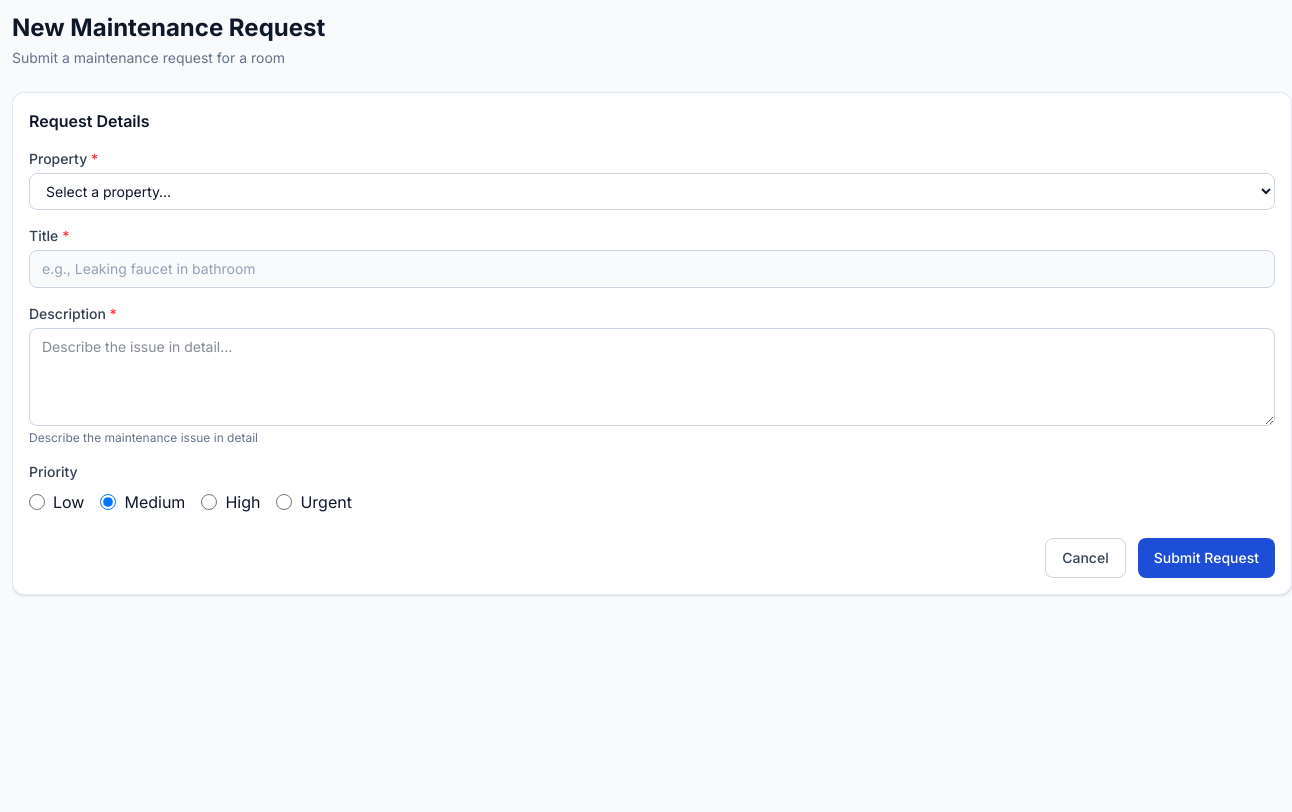
it: MaintenanceFormPage › property selection › shows room selection after property is selected
Select "Sunset Tower" in the dropdown labelled "Property *" at (652,192), box [29, 173, 1275, 210]
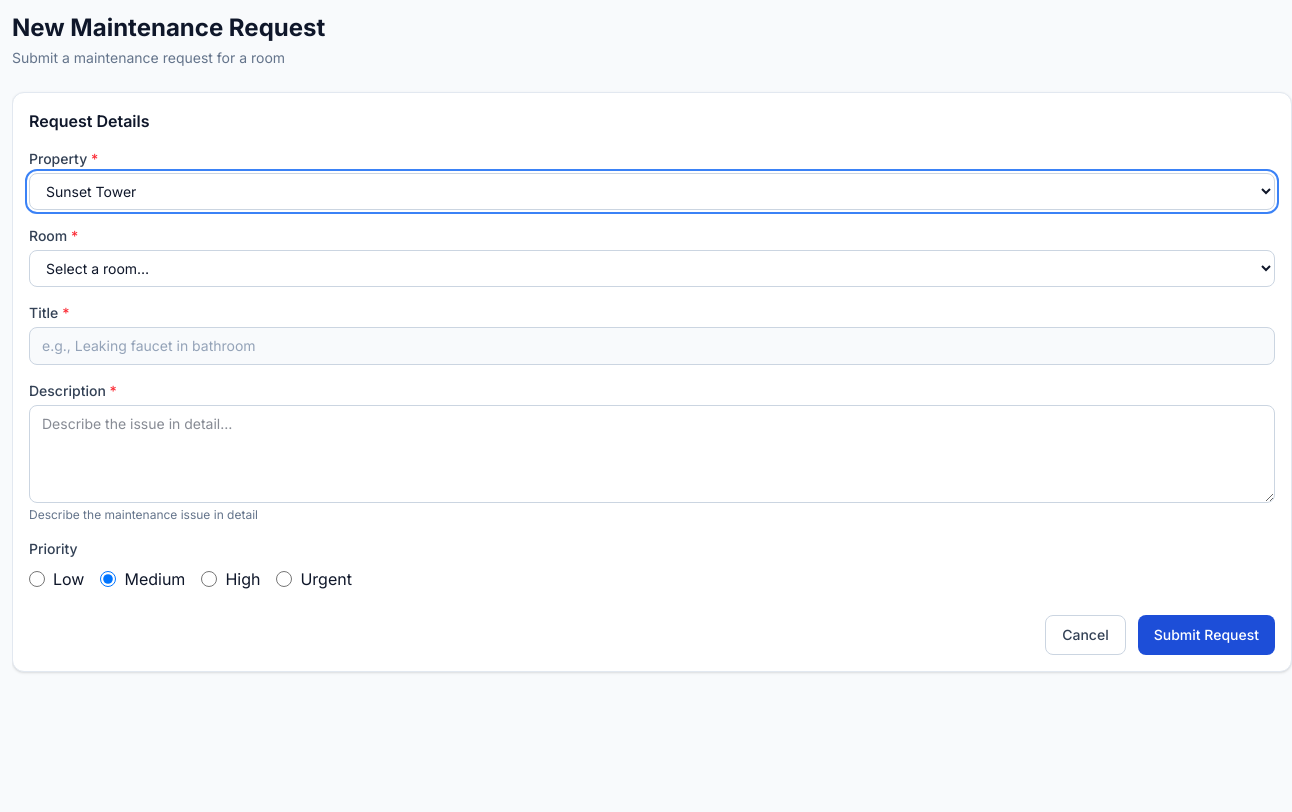
Expected: the dropdown labelled "Room *" is shown, [29, 250, 1275, 287]
